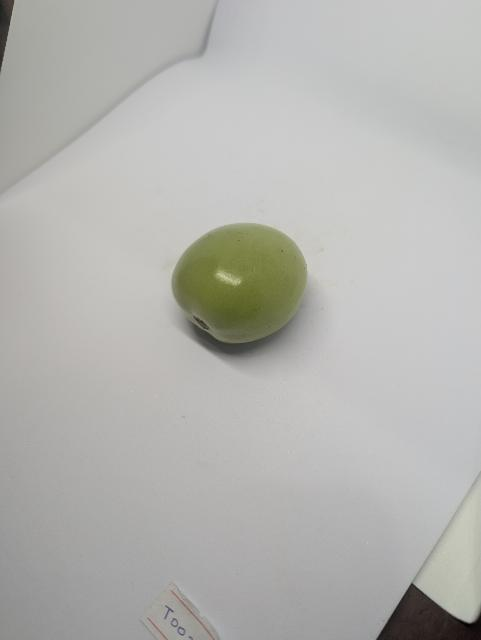green: (168, 218, 311, 350)
